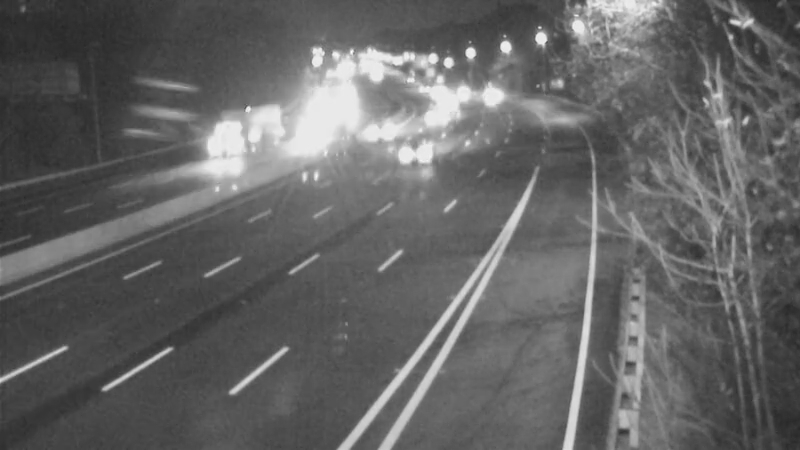vehicle: (372, 113, 452, 193), (474, 66, 524, 116), (423, 78, 473, 128), (405, 97, 455, 147), (373, 107, 423, 157), (182, 119, 232, 169), (287, 107, 337, 157)
